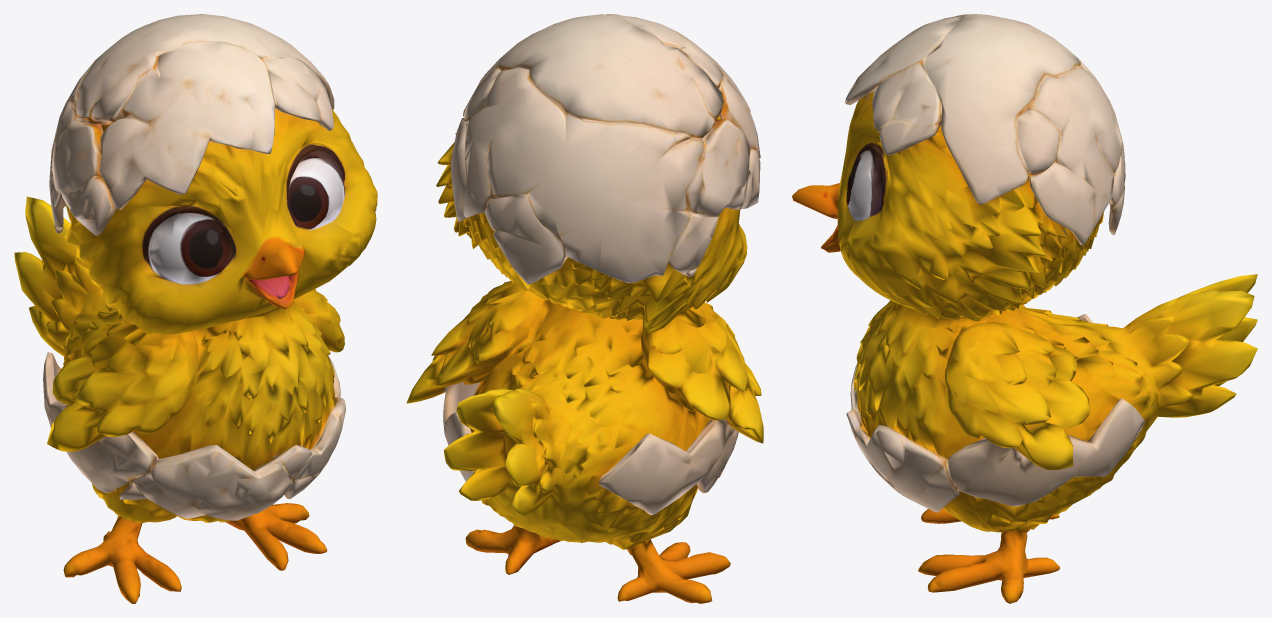
Rendered from pintinho_20k.glb.
3 renders of one model, left to right at view 1: azimuth 30°, elevation 25°; view 2: azimuth 150°, elevation 25°; view 3: azimuth 270°, elevation 25°, orthographic. The views are drawn at different scales.
Parts seen in each view (by area): view 1: tripo_node_0a89dce4-0242-4f5f-b5d5-a95ec7feaca0; view 2: tripo_node_0a89dce4-0242-4f5f-b5d5-a95ec7feaca0; view 3: tripo_node_0a89dce4-0242-4f5f-b5d5-a95ec7feaca0.
Boxes of the visible parts, box(x1,y1,x2,y2) form: tripo_node_0a89dce4-0242-4f5f-b5d5-a95ec7feaca0: box(14, 14, 377, 603); tripo_node_0a89dce4-0242-4f5f-b5d5-a95ec7feaca0: box(406, 14, 763, 603); tripo_node_0a89dce4-0242-4f5f-b5d5-a95ec7feaca0: box(792, 14, 1257, 603).
Size of the model in its own units: 0.588 by 0.9789 by 0.7938.
1 material, 1 textured.
